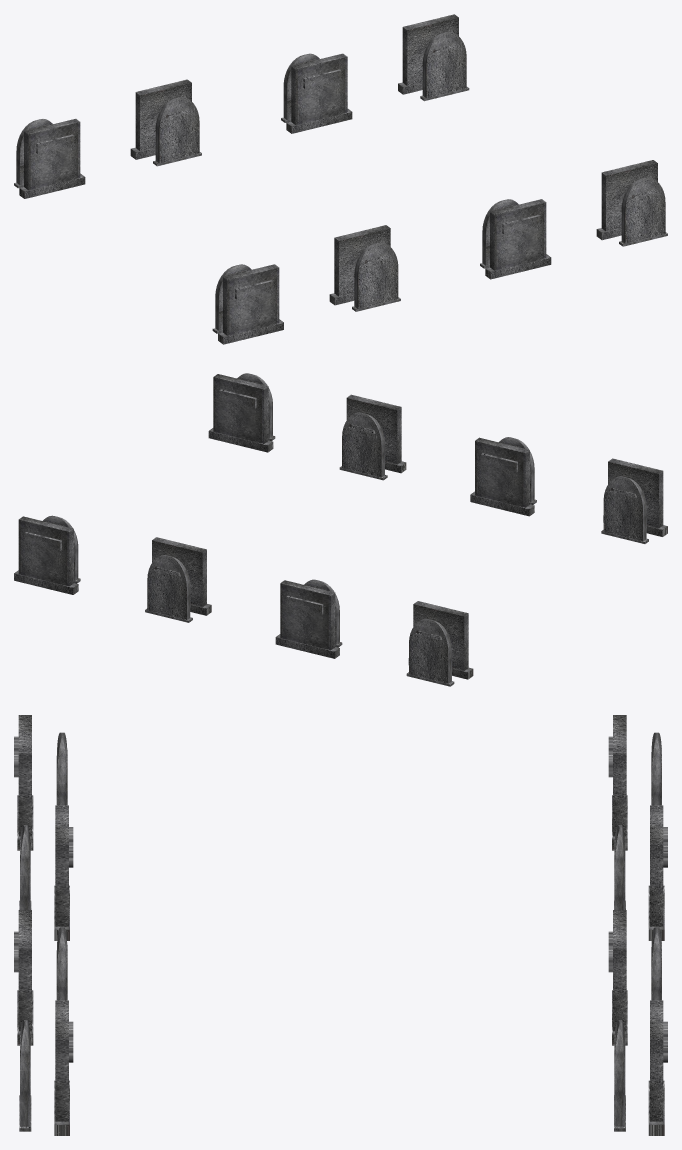
Rendered from TombstoneS.fbx.
3 views of the same model, one above another, from view 1: azimuth 30°, elevation 25°; view 2: azimuth 150°, elevation 25°; view 3: azimuth 270°, elevation 25° (orthographic). The views are drawn at different scales.
Parts seen in each view (by area): view 1: Cube; view 2: Cube; view 3: Cube.
Part boxes in pixels (bbox=[...]): Cube: bbox=[14, 14, 667, 344]; Cube: bbox=[14, 373, 667, 686]; Cube: bbox=[14, 715, 667, 1135].
Bounding box in the file's own units: 543 × 72.86 × 456.
